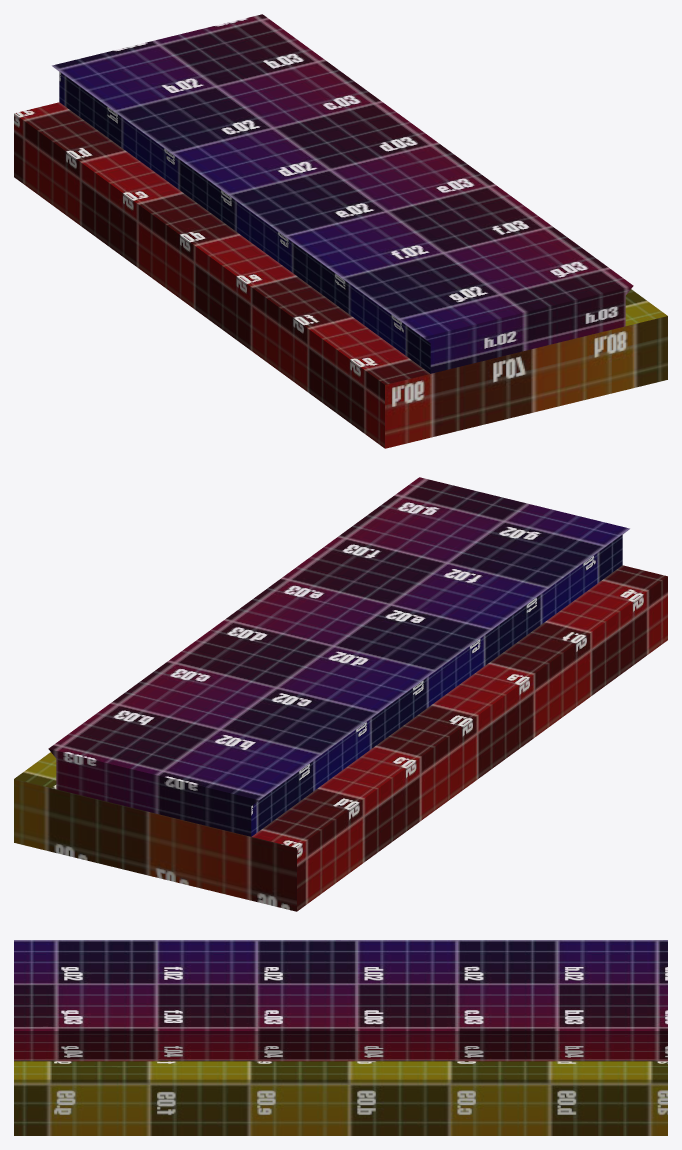
File: ClerkOverhangSegment.fbx
3 views of the same model, one above another, from view 1: azimuth 30°, elevation 25°; view 2: azimuth 150°, elevation 25°; view 3: azimuth 270°, elevation 25° (orthographic). The views are drawn at different scales.
Parts seen in each view (by area): view 1: pCube20; view 2: pCube20; view 3: pCube20.
Part boxes in pixels (x1=…): pCube20: x1=14, y1=14, x2=667, y2=448; pCube20: x1=14, y1=477, x2=667, y2=911; pCube20: x1=14, y1=940, x2=667, y2=1135.
Size of the model in its own units: 61.23 by 23.14 by 139.
